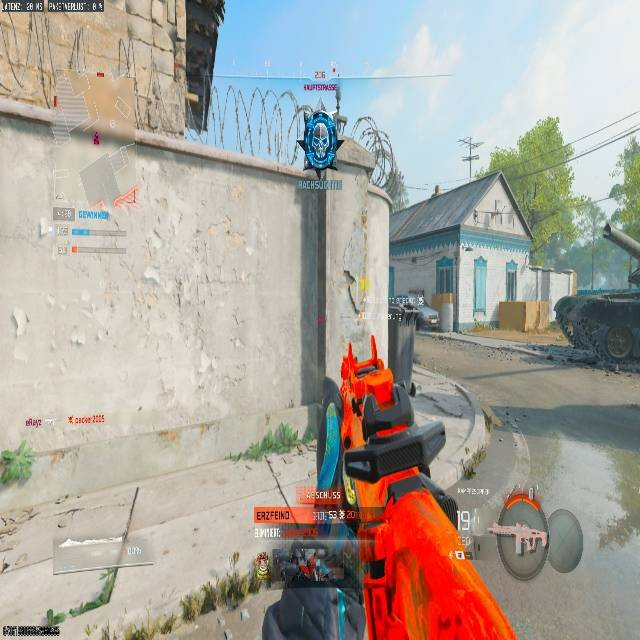player: (298, 108, 342, 178)
